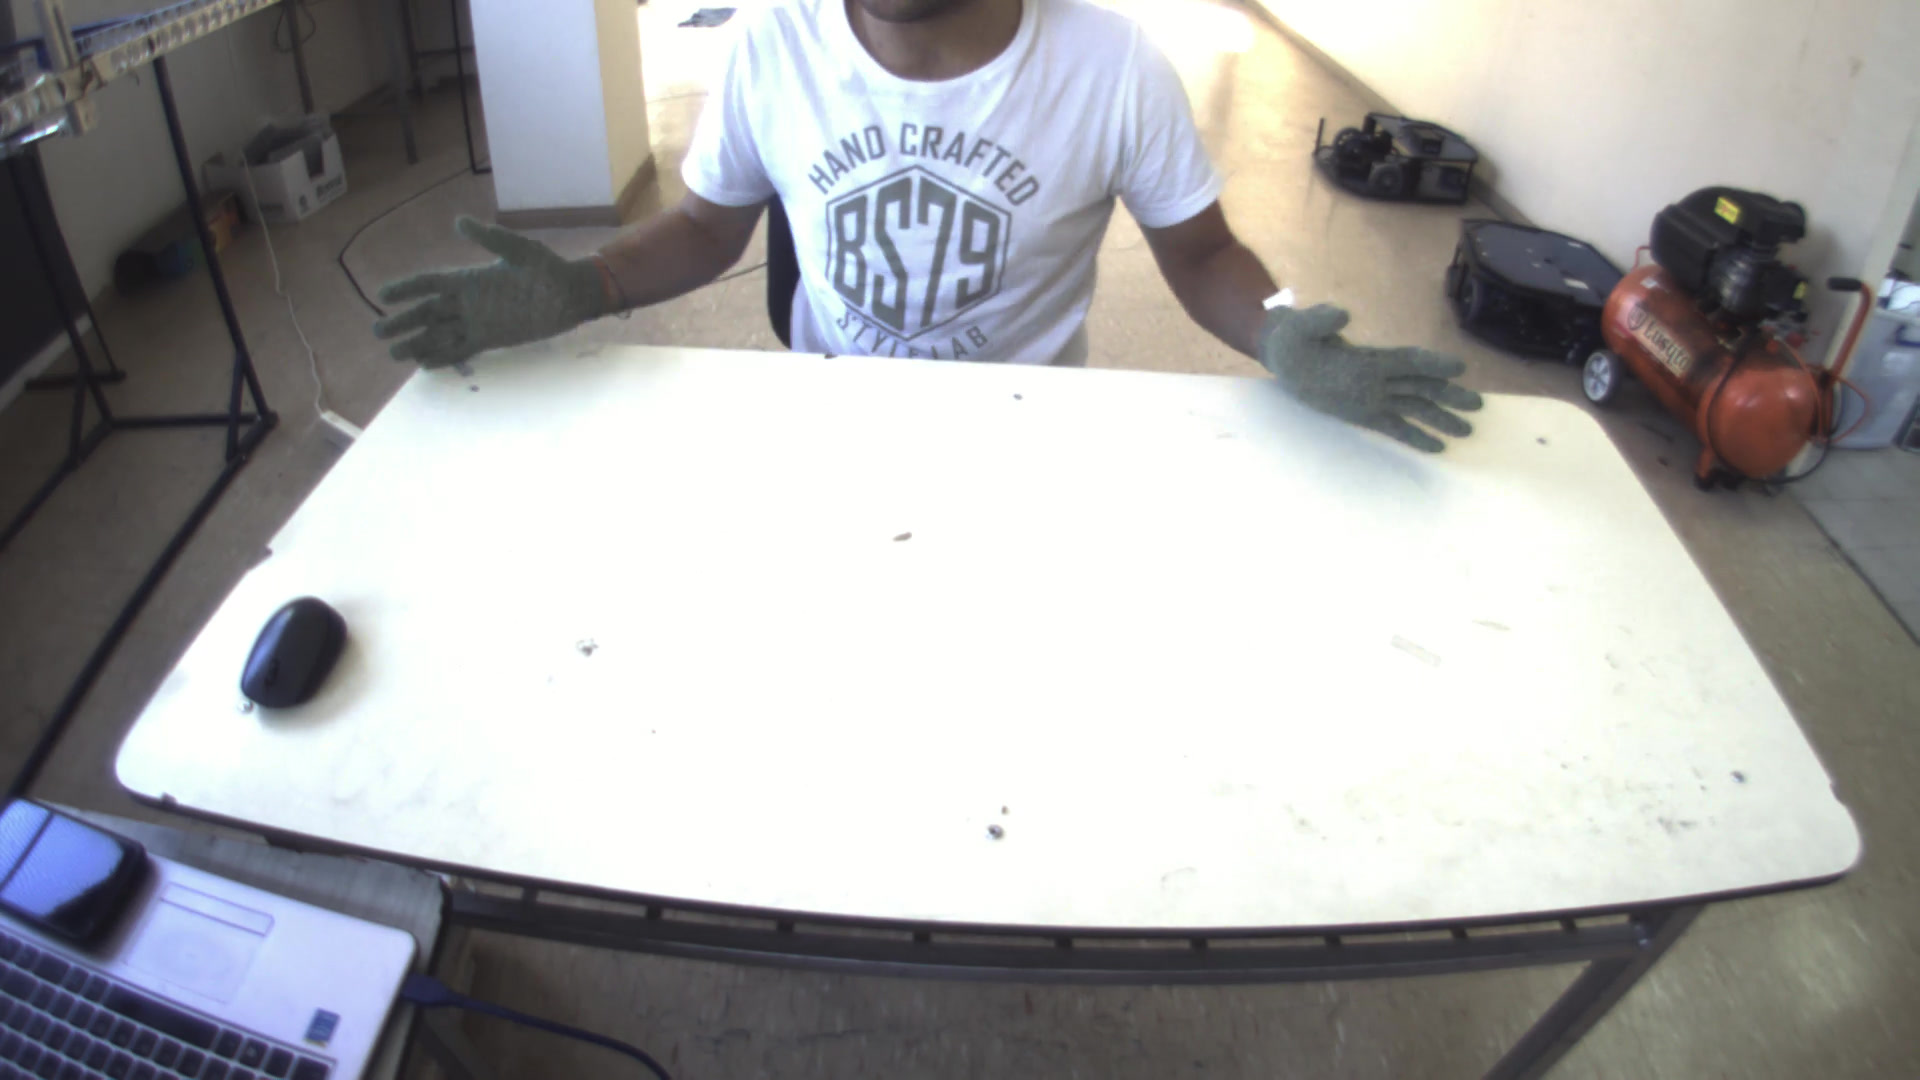hand: (352, 207, 613, 378), (1253, 295, 1501, 459)
